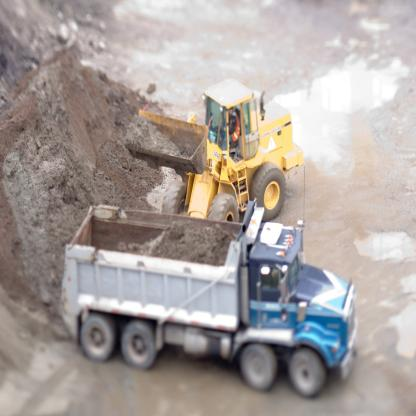bull_dozer/loader/grader: (113, 67, 323, 227)
dump_truck: (52, 188, 358, 398)
